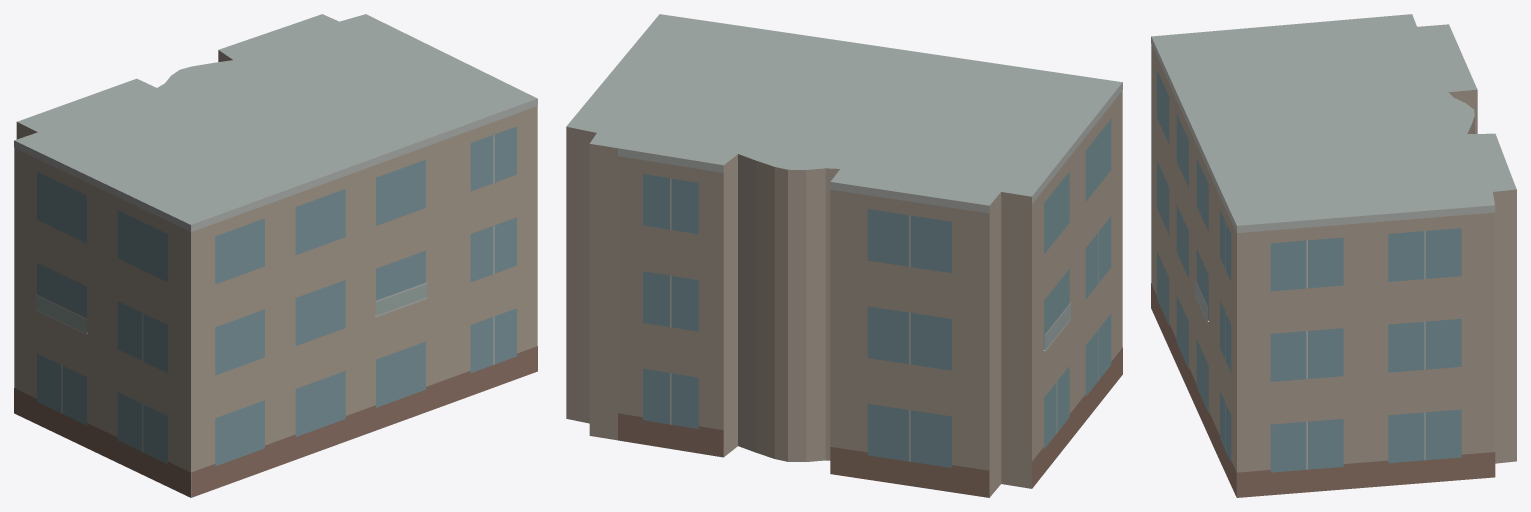
File: survey-upis-33031565.glb
3 renders of one model, left to right at view 1: azimuth 30°, elevation 25°; view 2: azimuth 150°, elevation 25°; view 3: azimuth 270°, elevation 25°, orthographic. The views are drawn at different scales.
Visible parts, largest first — view 1: survey-upis-33031565.tmp; view 2: survey-upis-33031565.tmp; view 3: survey-upis-33031565.tmp.
Boxes of the visible parts, x1,y1,x2,y2 form: survey-upis-33031565.tmp: (14, 14, 537, 497); survey-upis-33031565.tmp: (566, 14, 1122, 497); survey-upis-33031565.tmp: (1151, 14, 1516, 497).
Bounding box in the file's own units: 15.3 × 9.15 × 11.15.
